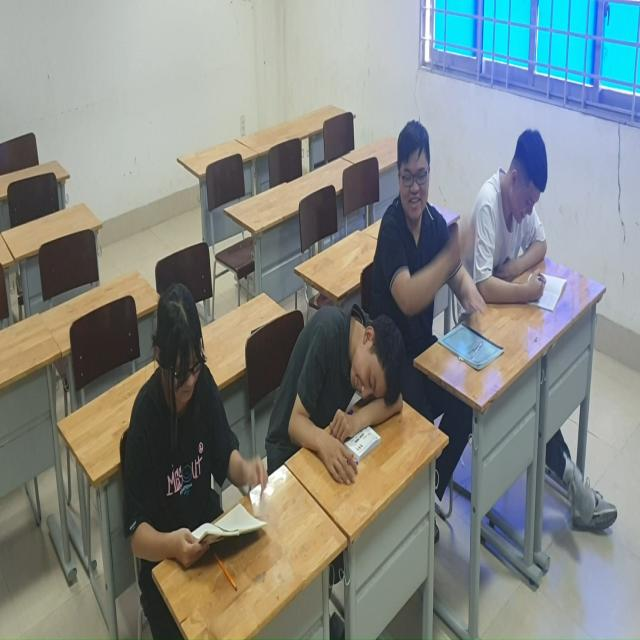raise_hand: (381, 114, 473, 357)
read: (121, 272, 272, 588), (477, 112, 574, 323)
sleep: (267, 300, 406, 491)
